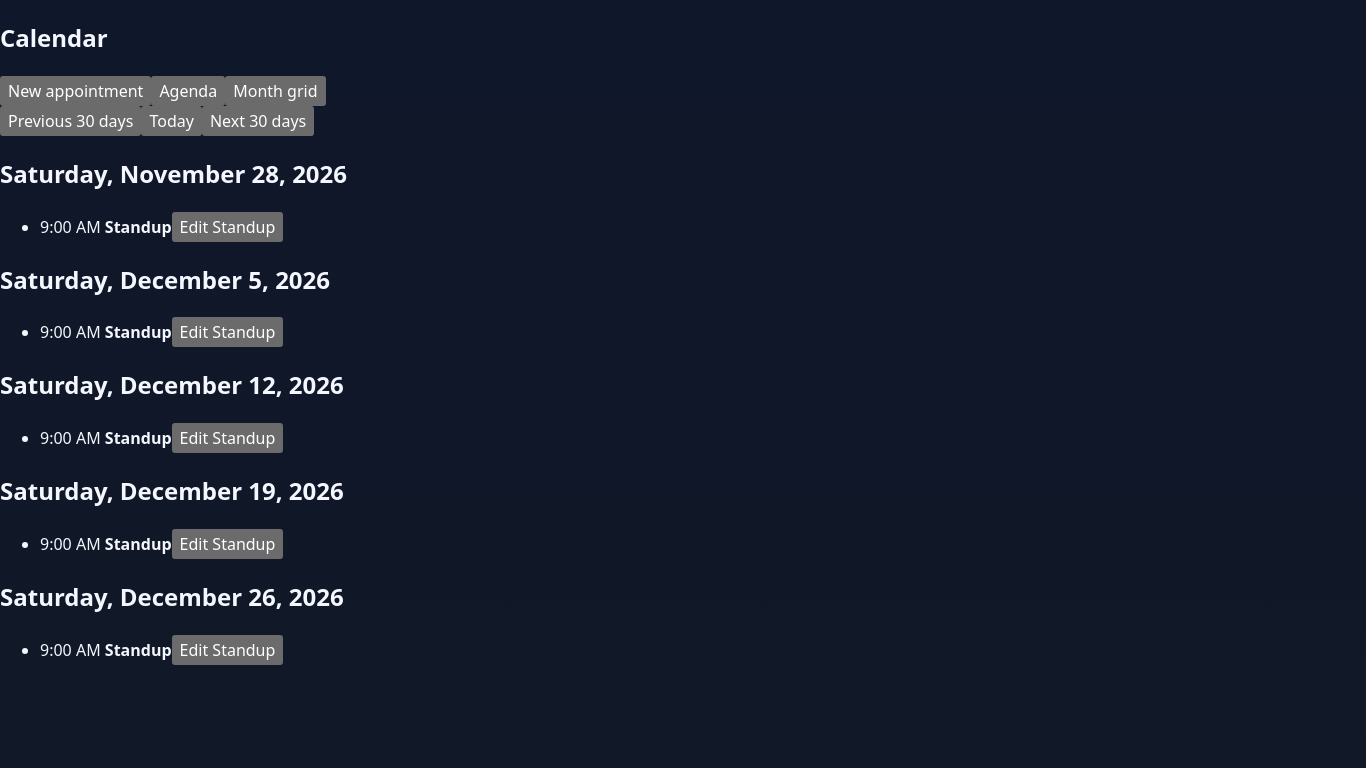
it: calendar screen › deletes only the occurrence it opened from and keeps the rest of the series
What coordinates should you click on to do the following:
click the button "Edit Standup" below "Saturday, December 5, 2026"
I would click on:
 (227, 332)
Its box is [172, 317, 283, 347].
(page scrolled)
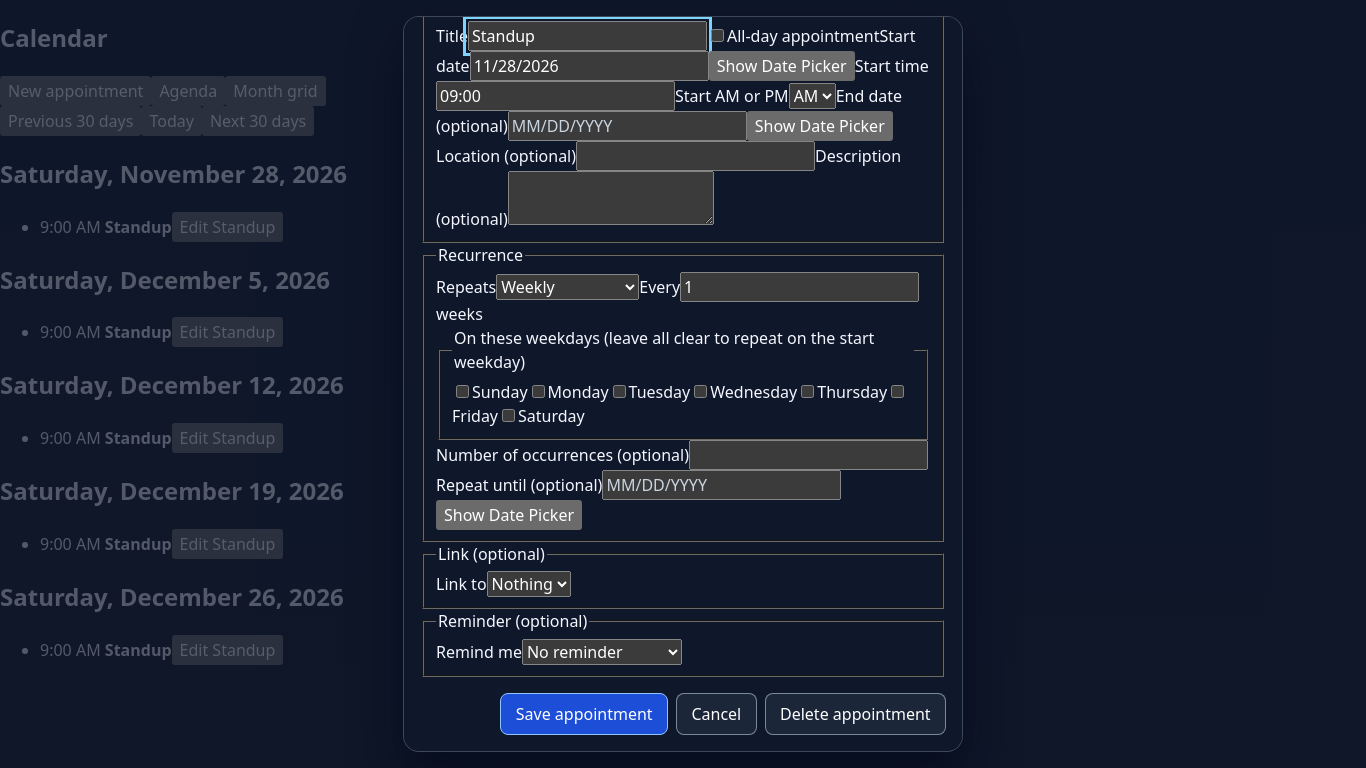
What coordinates should you click on to do the following:
click the button "Delete appointment"
I would click on:
 (855, 714)
Its box is [765, 693, 946, 735].
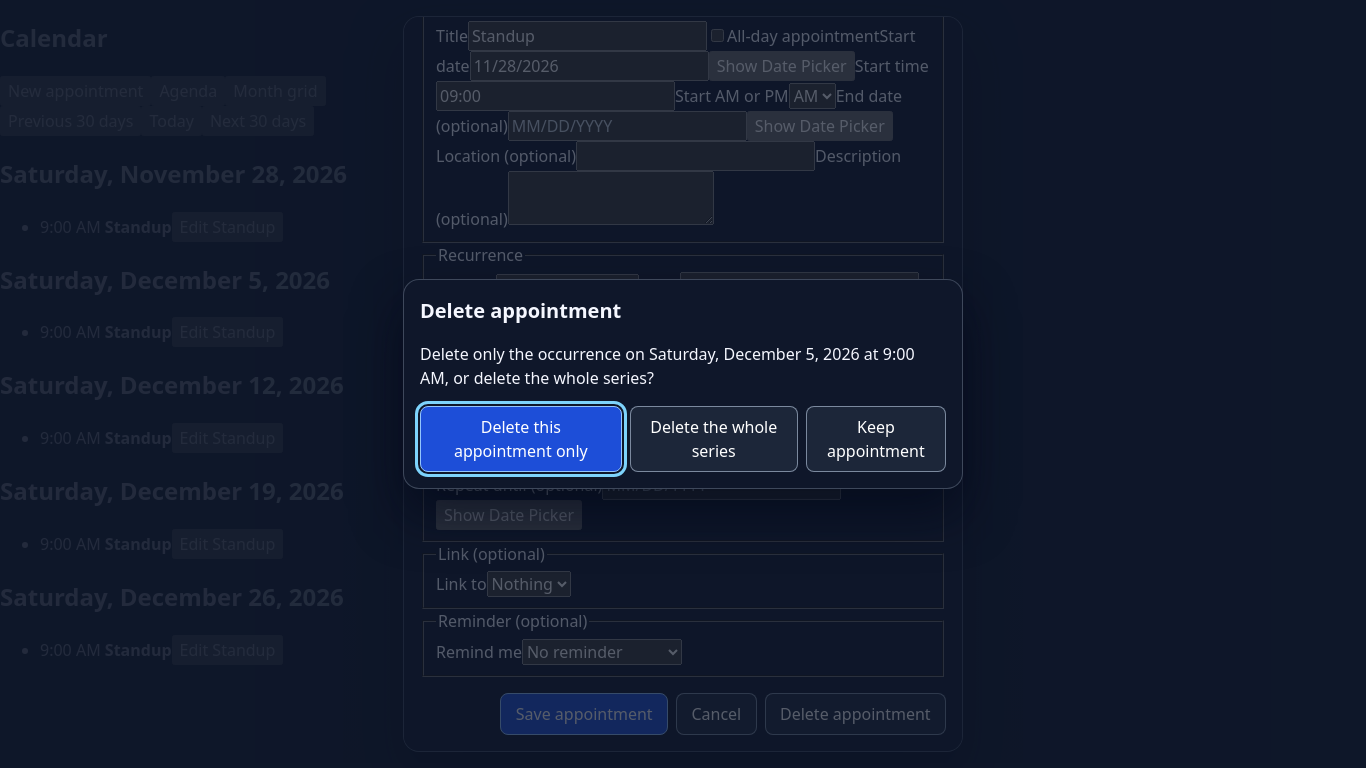
Expected: the text "Delete only the occurrence on" is shown, [420, 343, 914, 389]
Expected: the button "Delete this appointment only" is shown
What coordinates should you click on to do the following:
click the button "Delete this appointment only"
I would click on:
 (521, 439)
Its box is [420, 406, 622, 472].
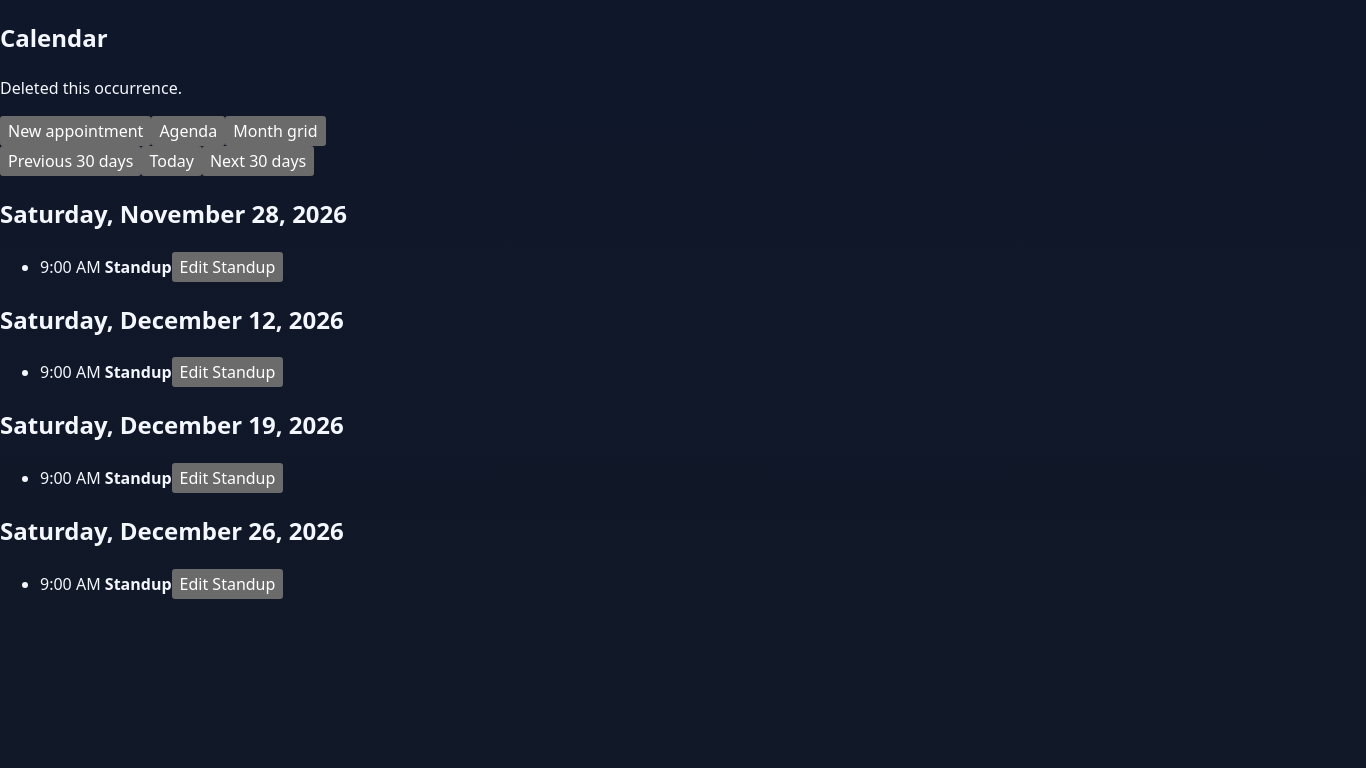
Expected: the dialog is gone
Expected: the number of buttons "Edit Standup" is 4, [172, 252, 283, 282]; [172, 357, 283, 387]; [172, 463, 283, 493]; [172, 569, 283, 599]
Expected: the message reads "Deleted this occurrence.", [0, 77, 182, 99]
